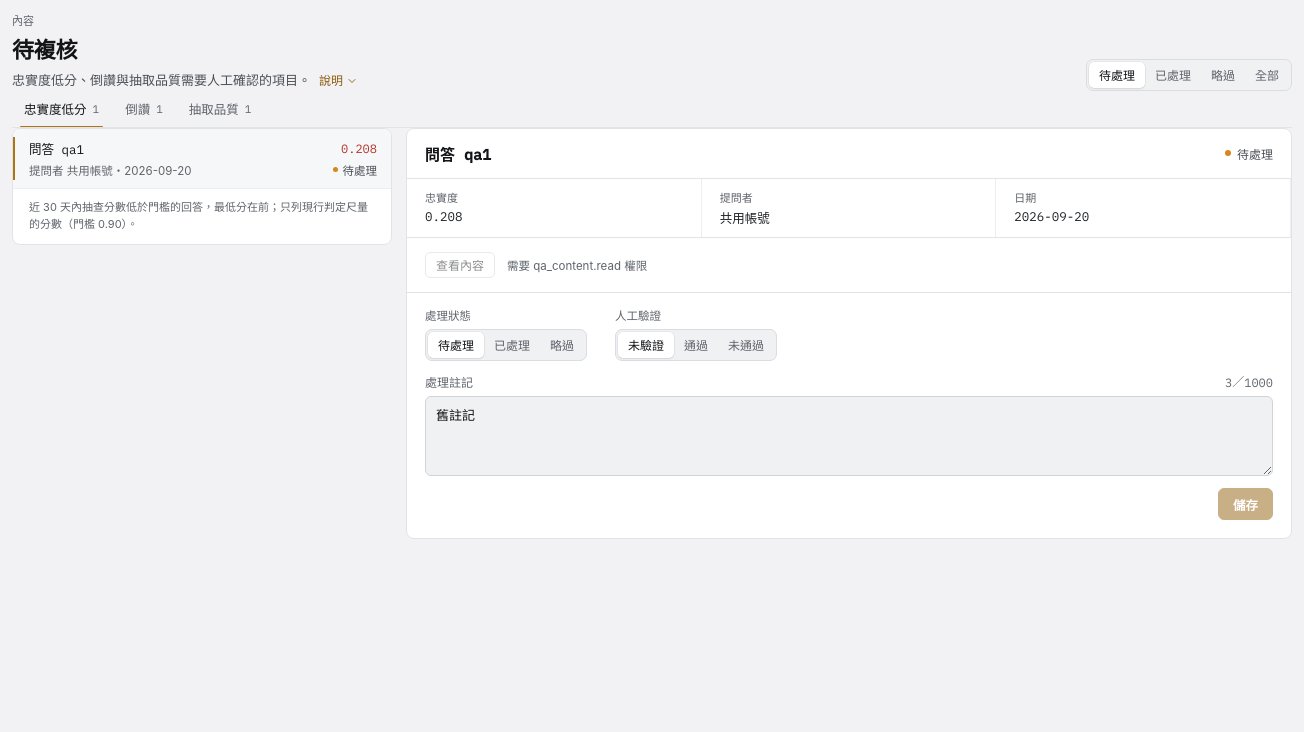
Test: 沒改動時「儲存」停用；註記有字數計數、上限 1000 字
This screenshot has width=1304, height=732.
Expected: the button "儲存" is disabled, 1218,488 -> 1273,520
Expected: the text "3／1000" is shown, 1225,373 -> 1273,390
Replace the text in the text box labelled "處理註記 3／1000" with "舊註記，補一句": (849, 436) 425,396 -> 1273,476
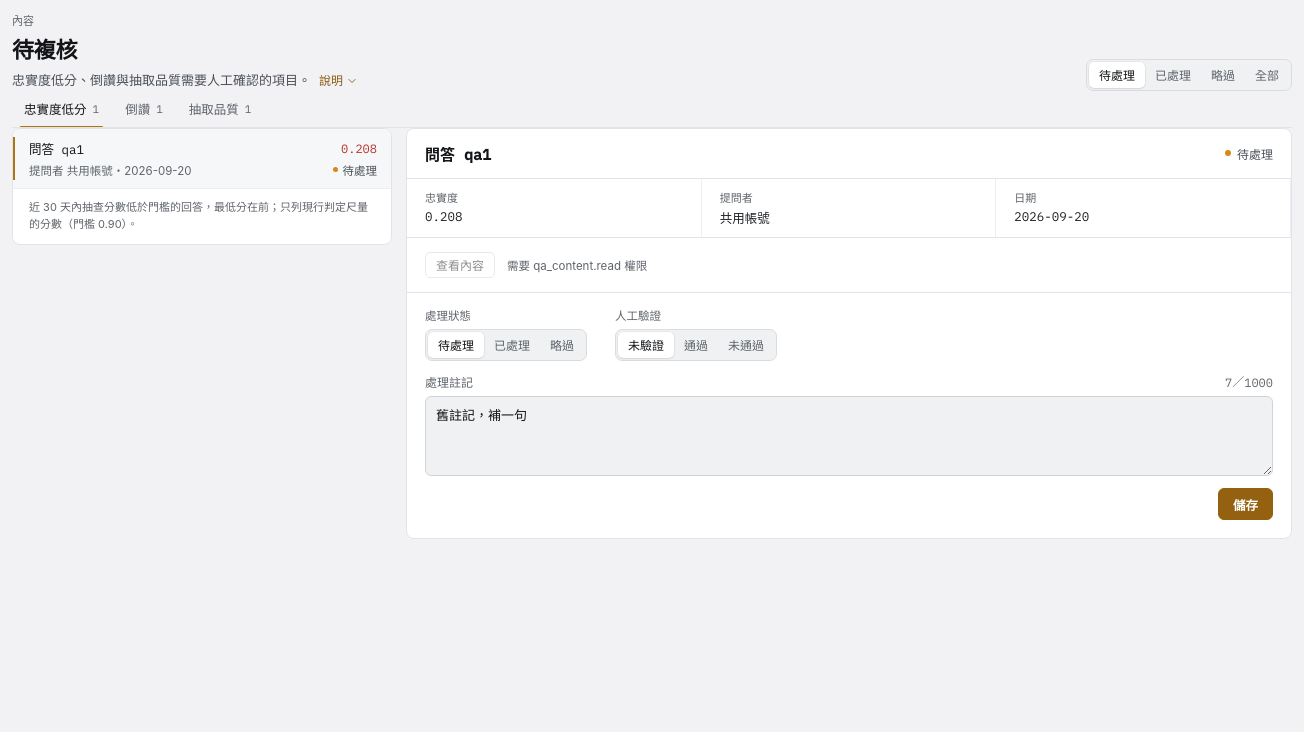
Now the text "7／1000" is shown, box 1225,373 -> 1273,390
Now the button "儲存" is enabled, box 1218,488 -> 1273,520
Note: 改回原樣就又沒有改動
Replace the text in the text box labelled "處理註記 7／1000" with "舊註記": (849, 436) 425,396 -> 1273,476
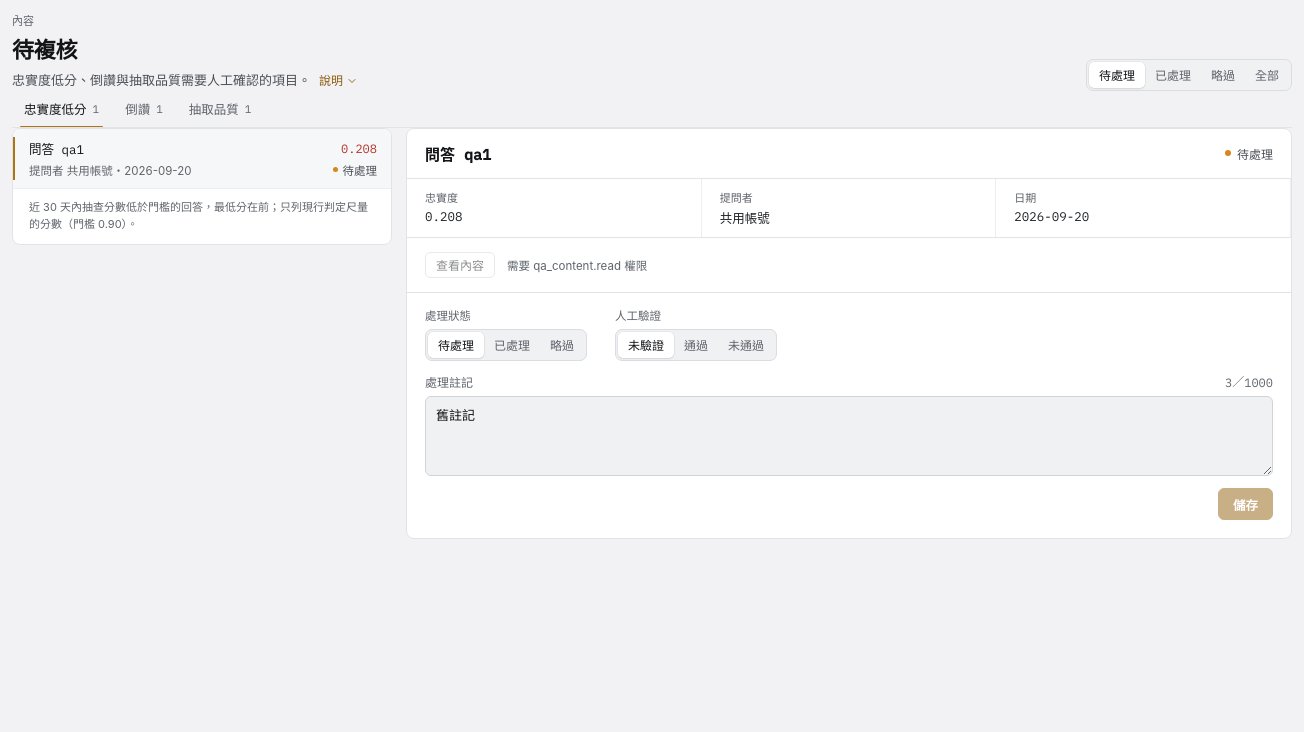
Now the button "儲存" is disabled, box 1218,488 -> 1273,520
Click the button "未通過": (746, 345) 718,332 -> 774,358
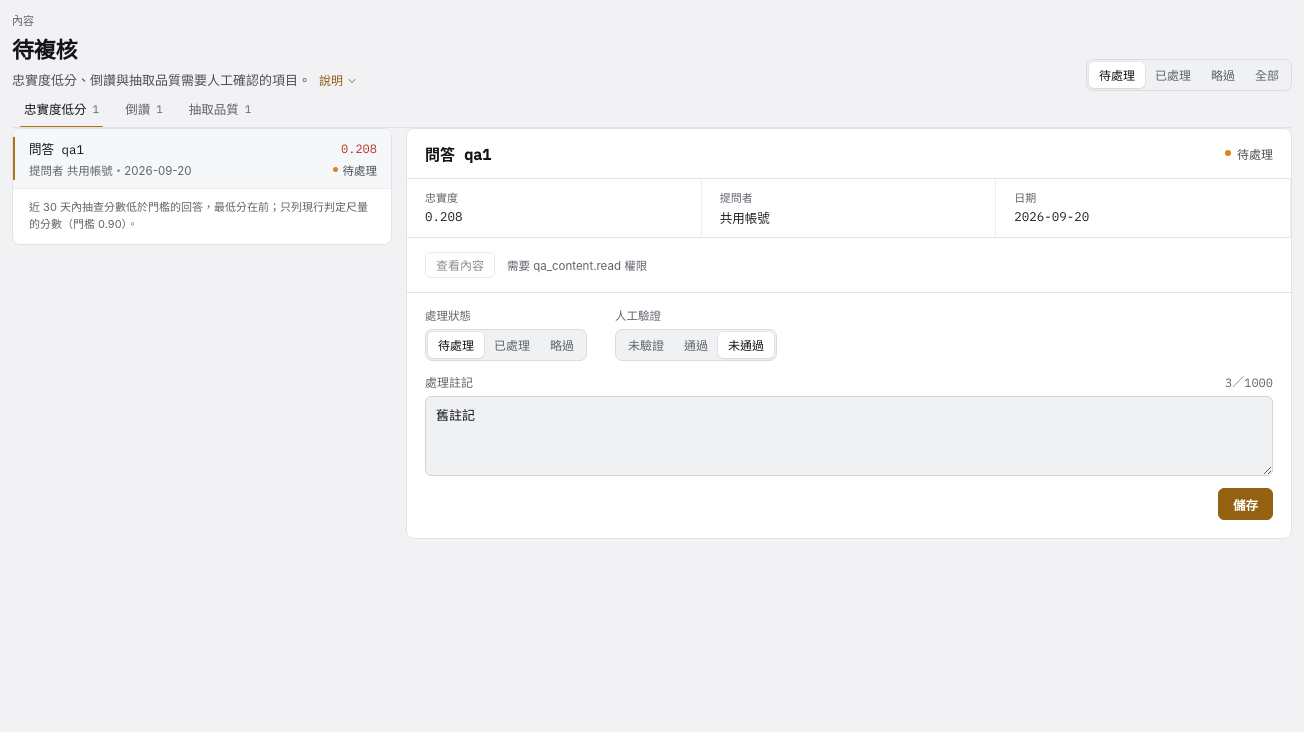
Now the button "儲存" is enabled, box 1218,488 -> 1273,520
